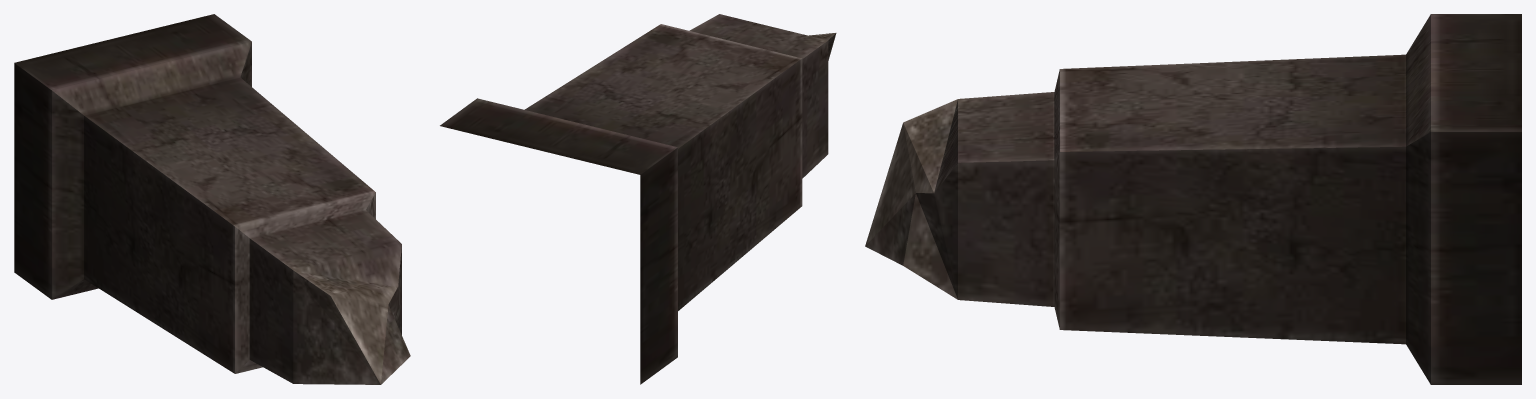
3 renders of one model, left to right at view 1: azimuth 30°, elevation 25°; view 2: azimuth 150°, elevation 25°; view 3: azimuth 270°, elevation 25°, orthographic. The views are drawn at different scales.
Parts seen in each view (by area): view 1: model_Object44; view 2: model_Object44; view 3: model_Object44.
Part boxes in pixels (x1,y1,x2,y2): model_Object44: (14,14,410,384); model_Object44: (440,14,836,384); model_Object44: (865,14,1521,384).
Size of the model in its own units: 0.8659 by 0.8659 by 2.04.
1 material, 1 textured.
